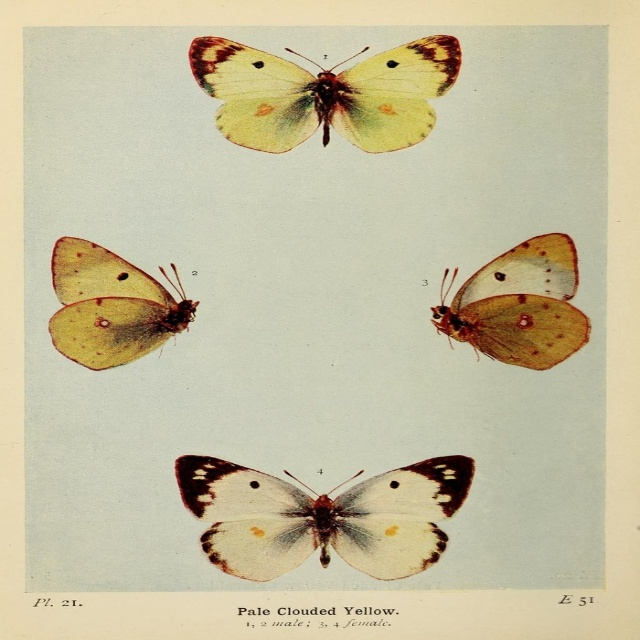Butterfly: (174, 453, 491, 584), (189, 35, 459, 154), (431, 234, 595, 376), (47, 235, 202, 372)
